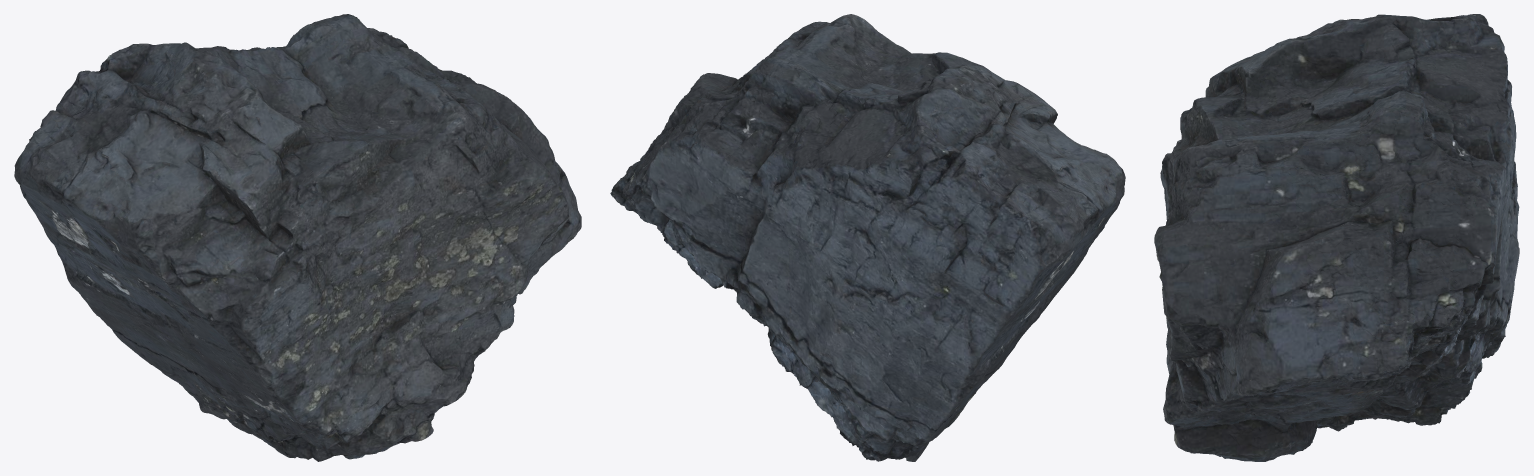
Rendered from coal.glb.
3 views of the same model, side by side, from view 1: azimuth 30°, elevation 25°; view 2: azimuth 150°, elevation 25°; view 3: azimuth 270°, elevation 25° (orthographic). The views are drawn at different scales.
Visible parts, largest first — view 1: Object_2; view 2: Object_2; view 3: Object_2.
Part boxes in pixels (x1,y1,x2,y2): Object_2: [14, 14, 581, 461]; Object_2: [610, 14, 1125, 461]; Object_2: [1154, 14, 1519, 461].
Bounding box in the file's own units: 0.1 × 0.0751 × 0.0623.
Materials: 1 (1 with a texture image).
